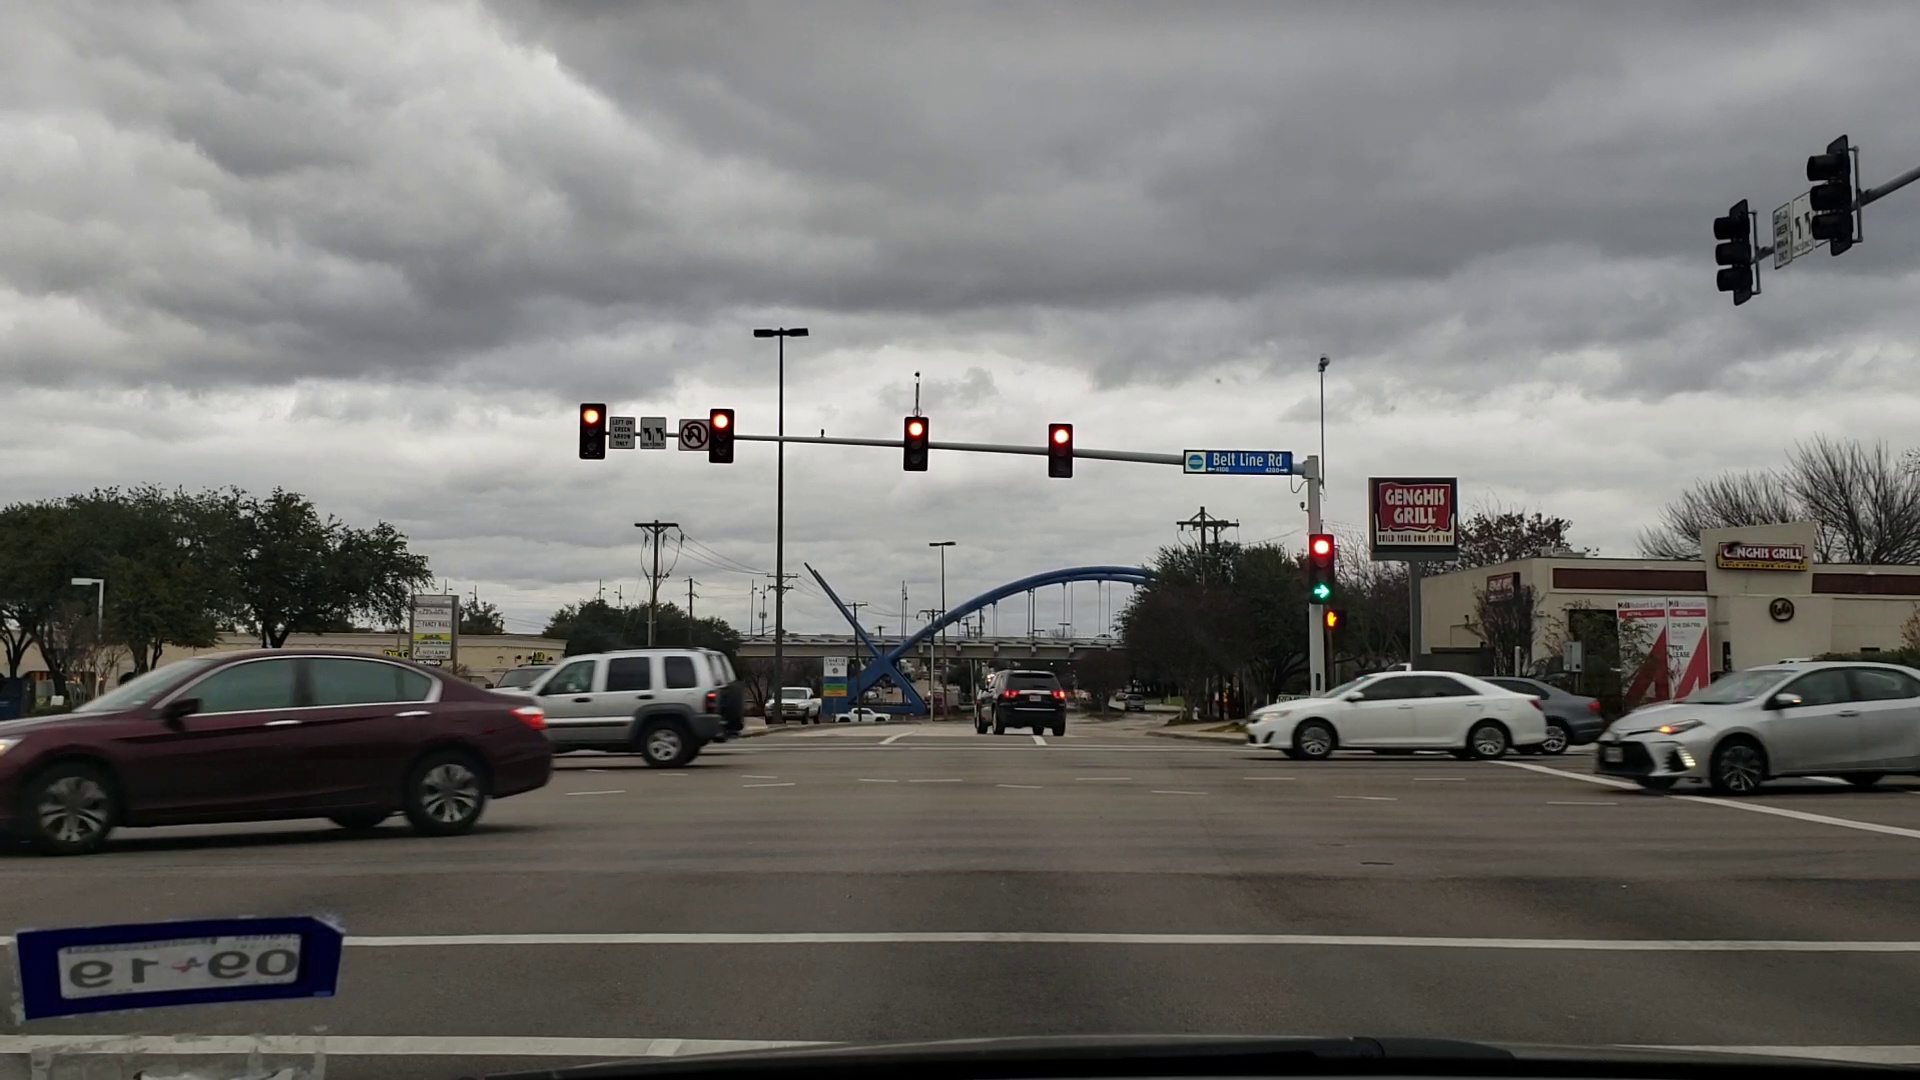car: (3, 640, 550, 852), (1600, 644, 1920, 796), (513, 638, 748, 767), (1250, 669, 1552, 762), (1472, 665, 1604, 769), (969, 663, 1071, 742), (769, 676, 822, 731), (829, 704, 894, 728)
traffic light: (1804, 148, 1838, 251), (1716, 208, 1745, 298), (582, 397, 611, 463), (705, 401, 735, 467), (1308, 535, 1336, 604), (905, 415, 931, 473), (1048, 422, 1071, 480)
